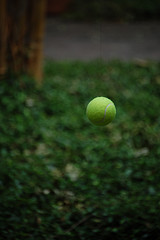tennis ball: (83, 93, 119, 129)
